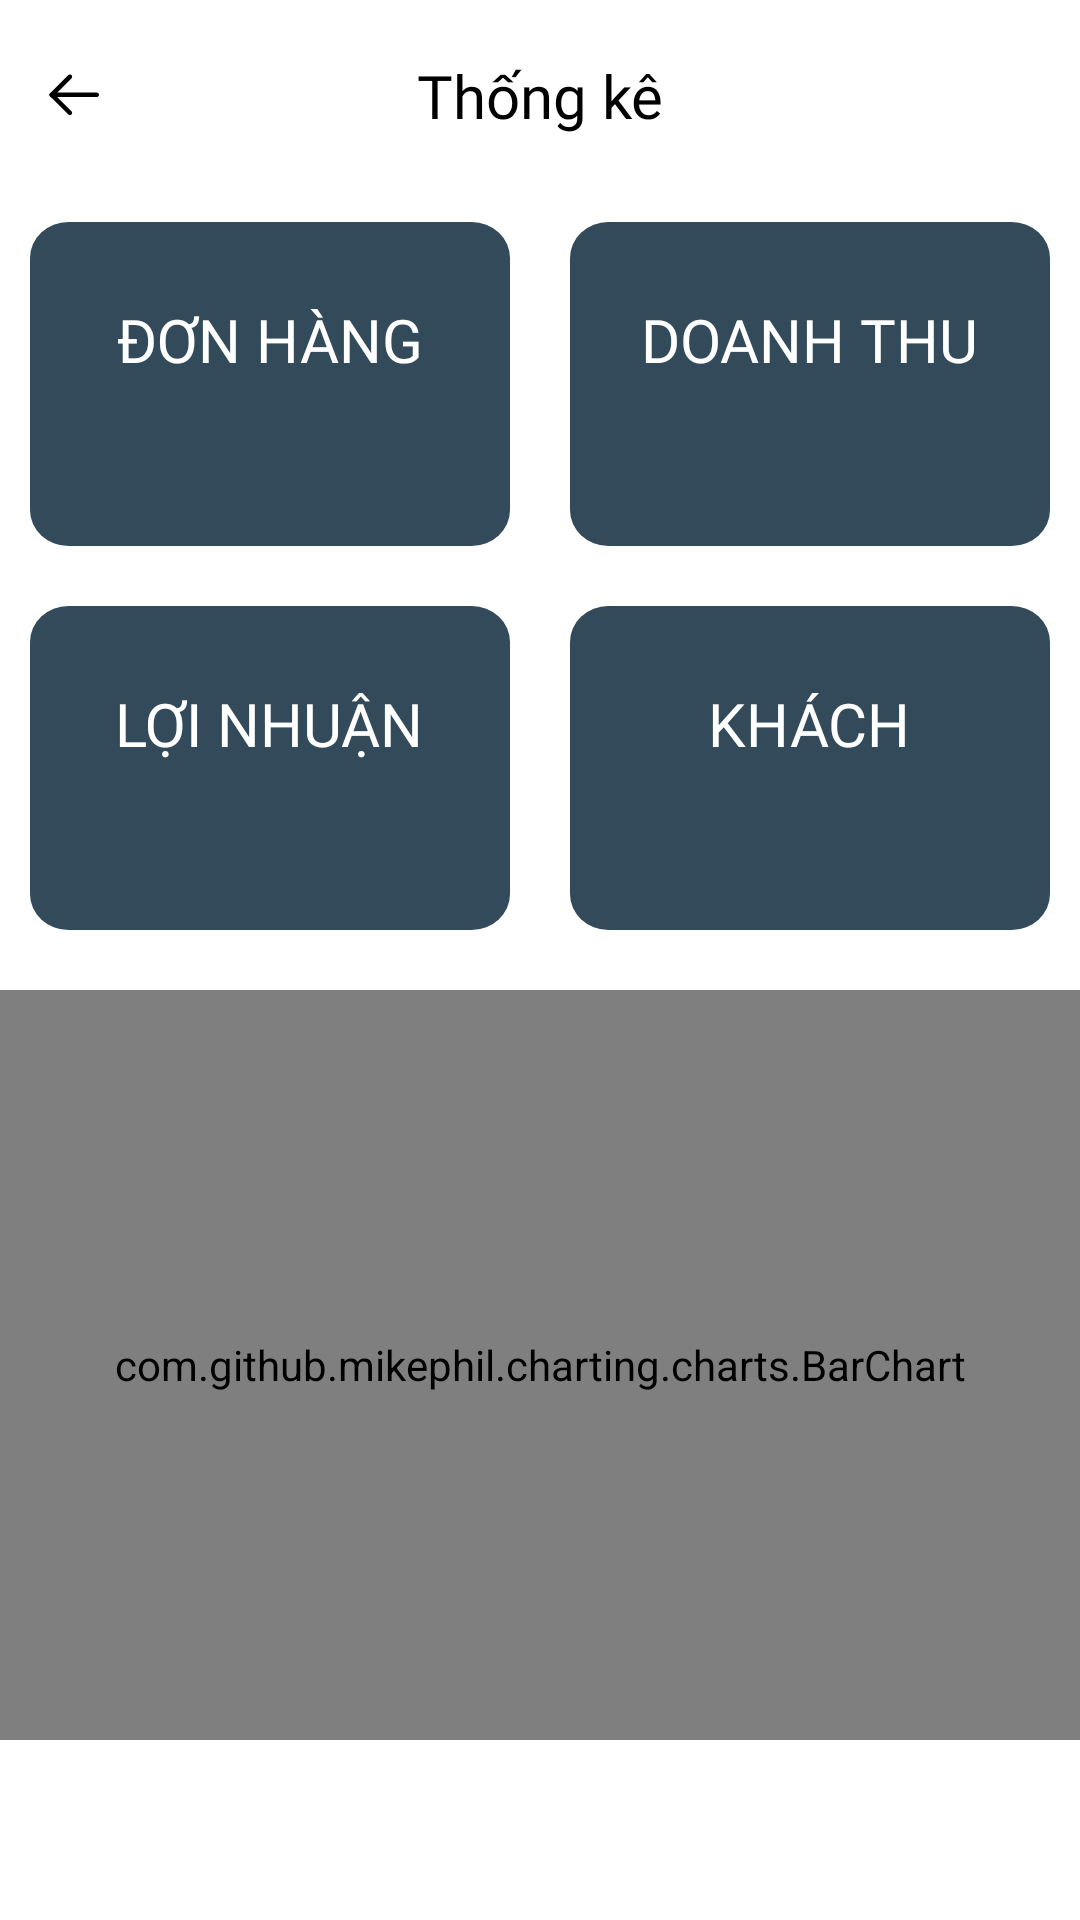

Named icons in this screenshot (1080 × 1920) and their centers, point (x, y):
arrow left: point (74, 94)
